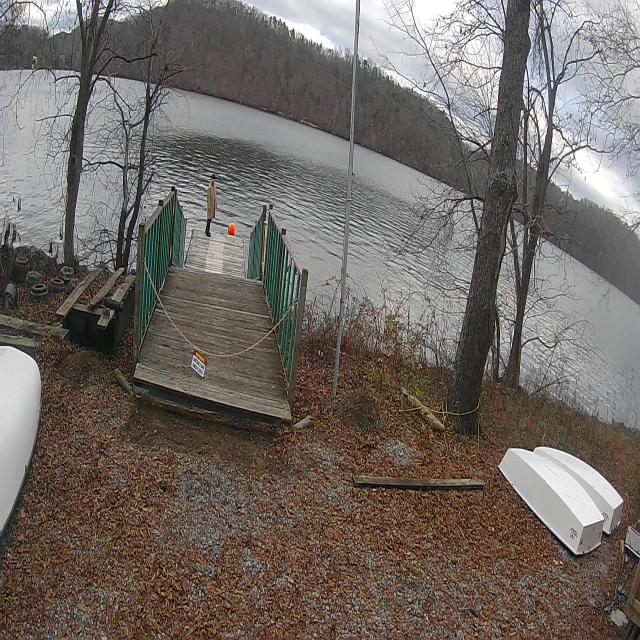Buoy: (228, 218, 238, 241)
